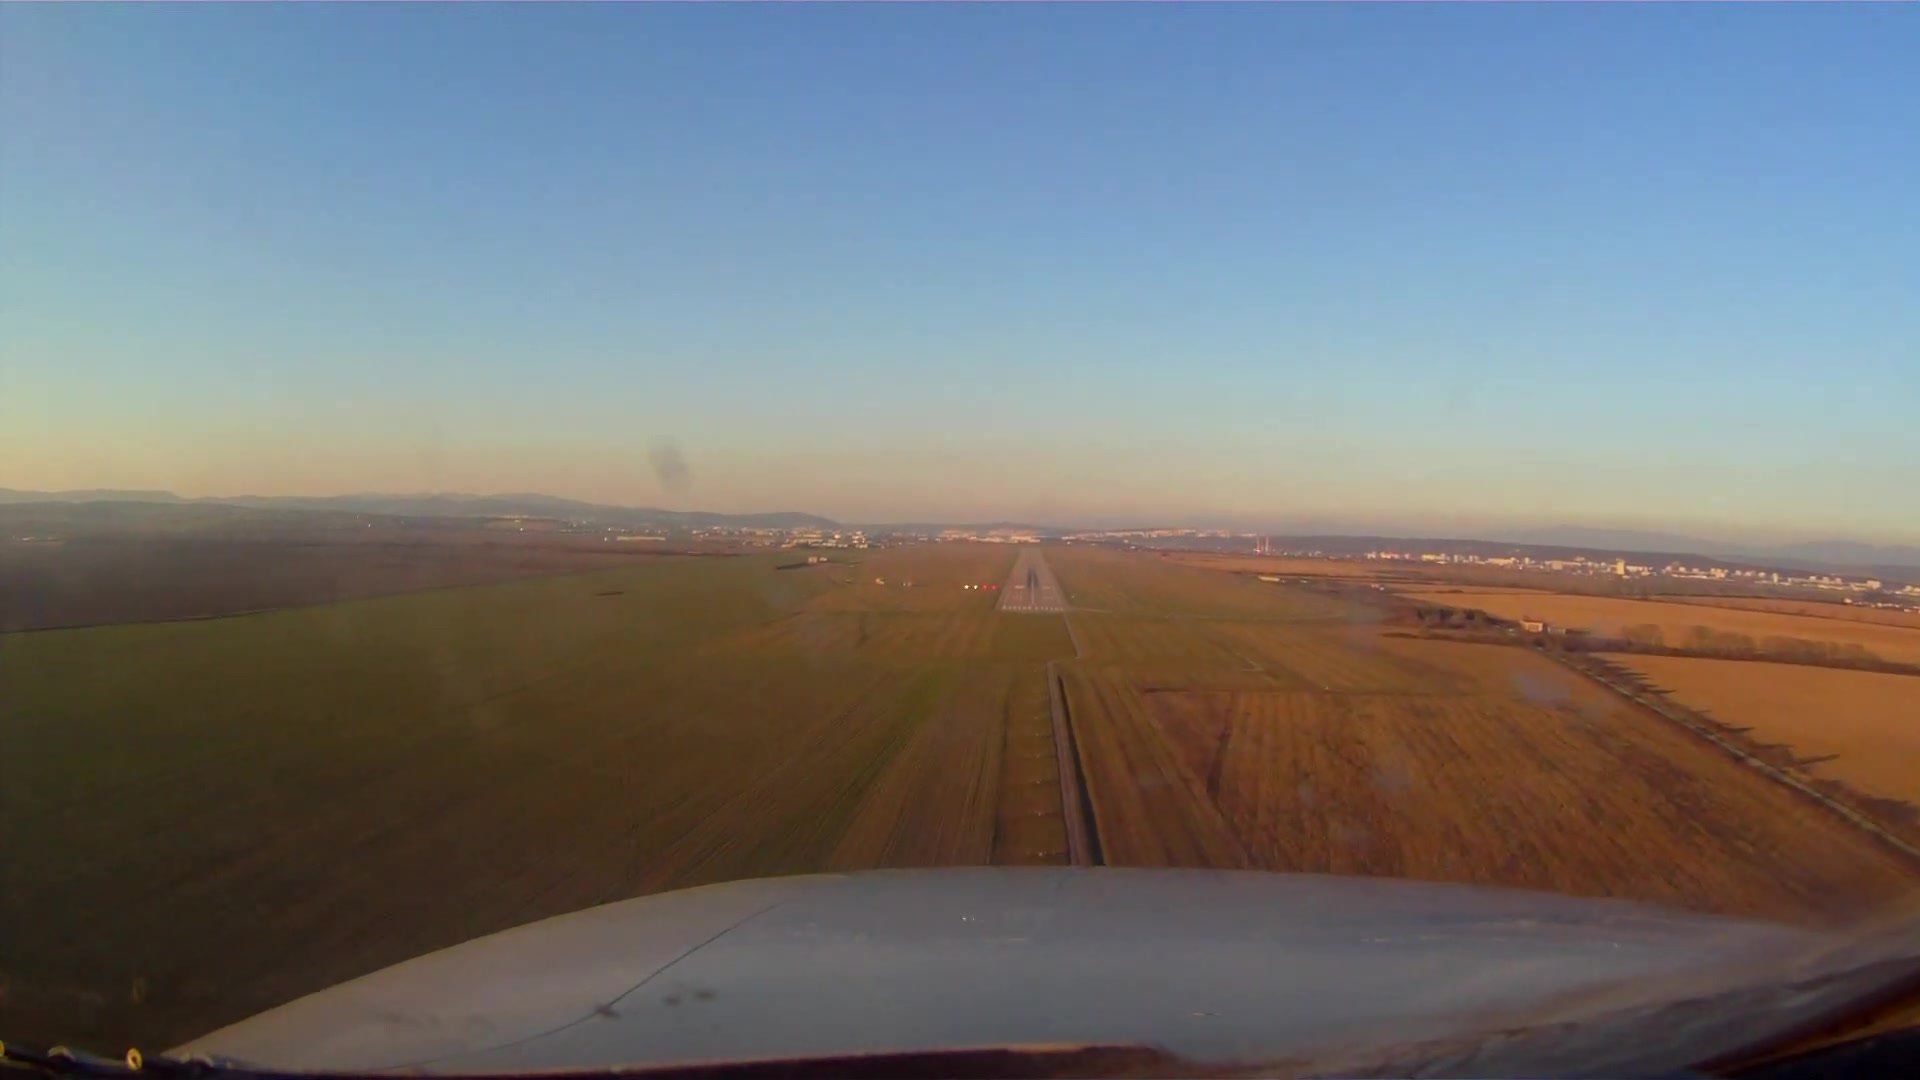entrance: (1002, 603, 1067, 612)
runway: (992, 546, 1076, 617)
